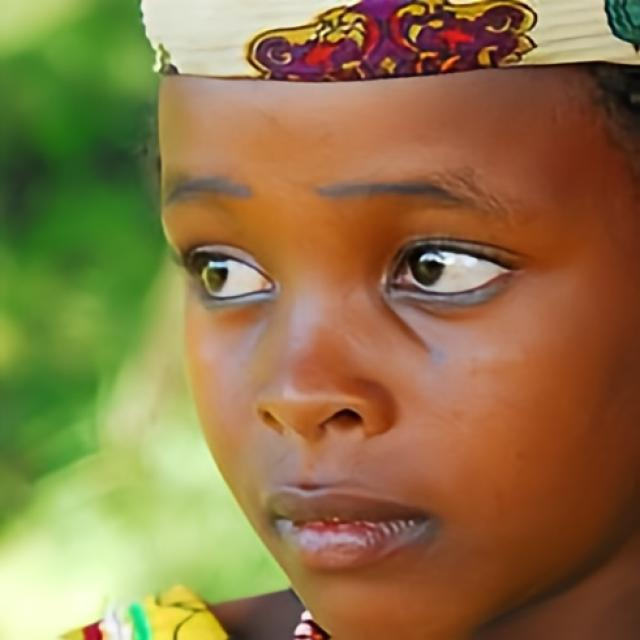sad: (155, 75, 637, 640)
